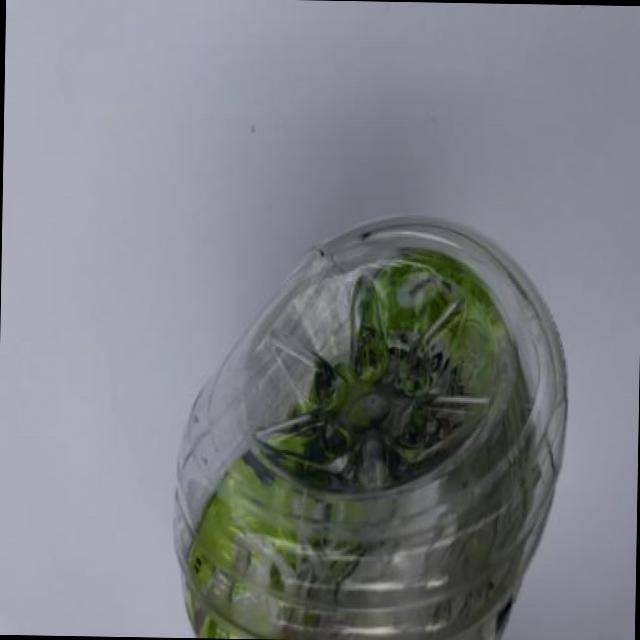Recycle: (166, 208, 568, 640)
